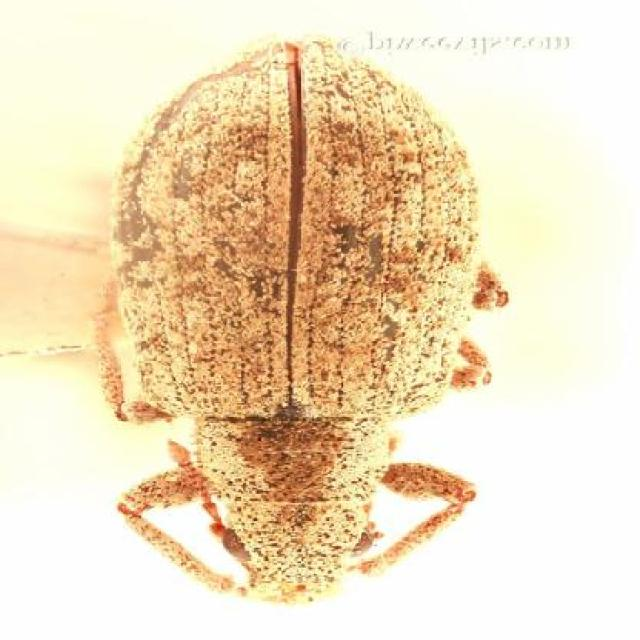rice-bug: (86, 29, 514, 608)
